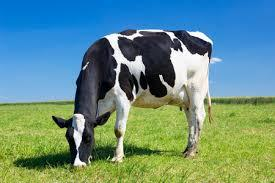cow: (51, 28, 215, 169)
